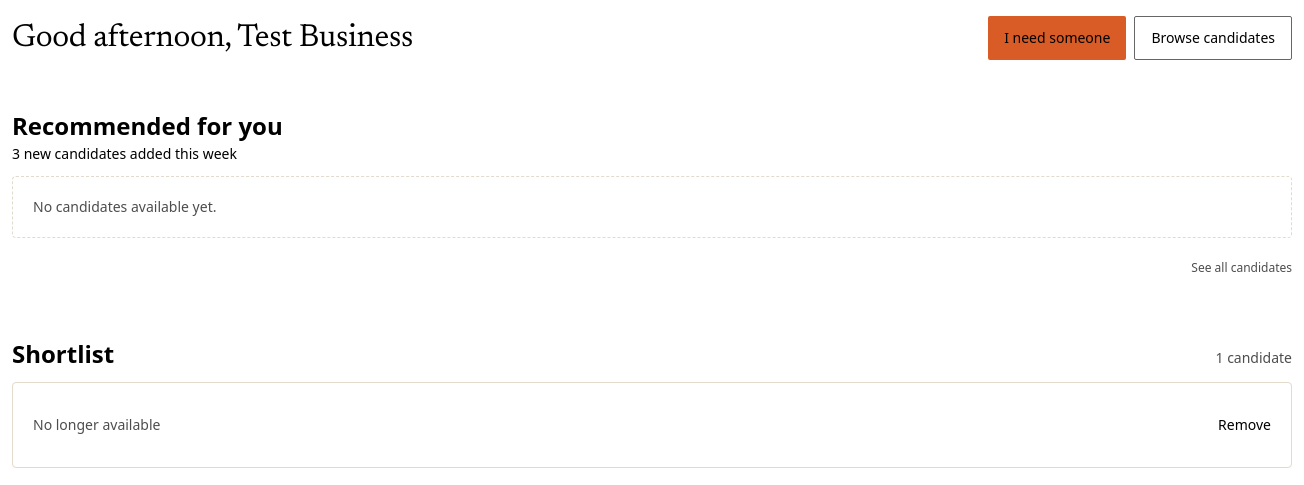
Test case: Dashboard › hides unavailable candidate details and allows removal
The image size is (1304, 485).
Expected: the text "No longer available" is shown, [33,415,160,435]
Click the button with aria-label "Remove unavailable candidate from shortlist".
click(1245, 425)  # box [1218,403,1271,447]
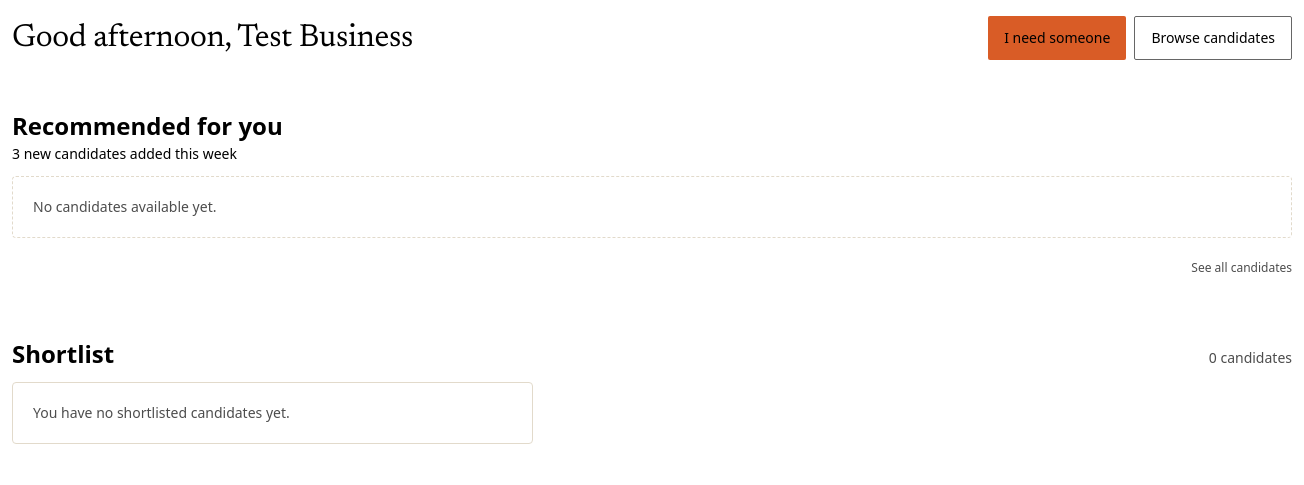
Now the text "You have no shortlisted candidates yet." is shown, box [12,382,532,444]
